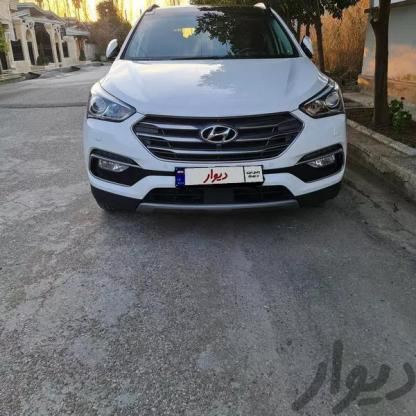Car: (81, 0, 353, 225)
